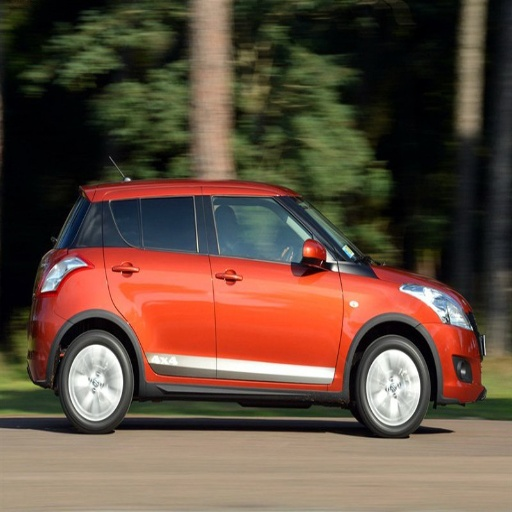back_right_door: (104, 190, 216, 377)
front_right_door: (205, 191, 343, 383)
